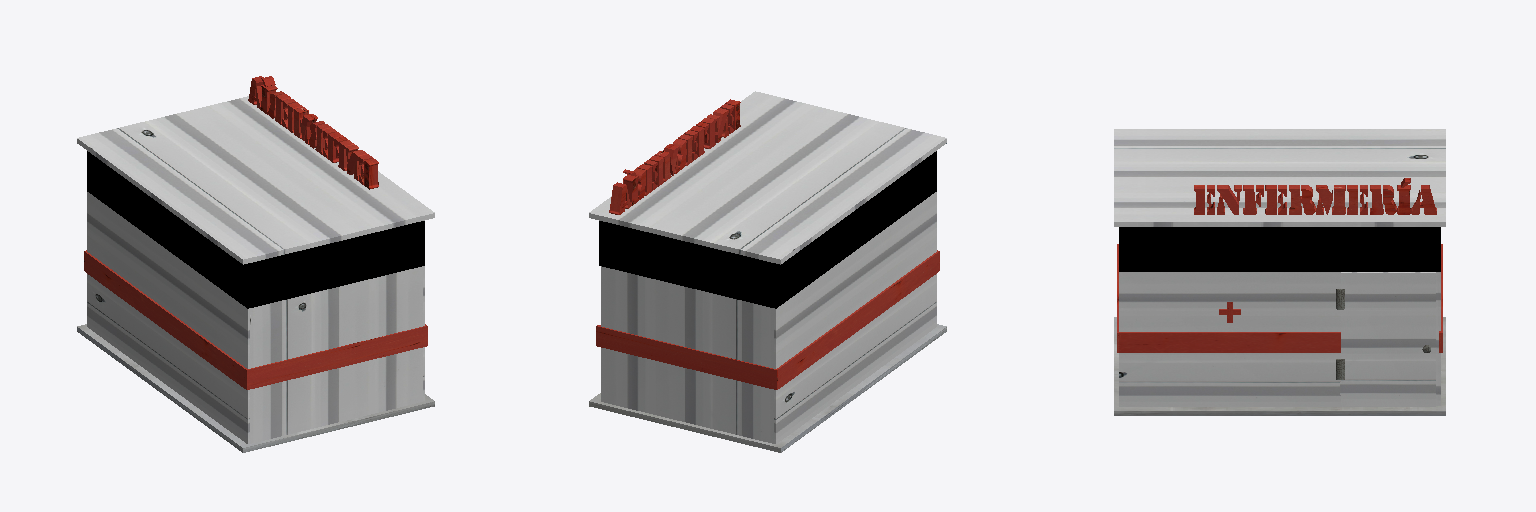
The picture shows the model from 3 angles: view 1: azimuth 30°, elevation 25°; view 2: azimuth 150°, elevation 25°; view 3: azimuth 270°, elevation 25°; orthographic projection.
Visible parts, largest first — view 1: pCube21, pCube10, pCube8, pCube14, pCube13, typeMesh1, pCube18, pCube20, pCube1; view 2: pCube21, pCube11, pCube8, pCube15, pCube13, typeMesh1, pCube19, pCube20, pCube1; view 3: pCube21, pCube9, pCube12, pCube16, typeMesh1, pCube17, pCube1, pCube11.
Boxes of the visible parts, box(x1,y1,x2,y2) form: pCube21: box(77, 96, 434, 264); pCube10: box(250, 266, 422, 443); pCube8: box(87, 192, 249, 443); pCube14: box(250, 221, 422, 307); pCube13: box(87, 151, 249, 308); typeMesh1: box(248, 76, 378, 189); pCube18: box(245, 325, 427, 389); pCube20: box(85, 251, 245, 388); pCube1: box(77, 324, 434, 452); pCube21: box(589, 91, 946, 264); pCube11: box(601, 266, 773, 443); pCube8: box(774, 192, 936, 443); pCube15: box(601, 221, 773, 307); pCube13: box(774, 151, 936, 308); typeMesh1: box(609, 99, 740, 214); pCube19: box(596, 325, 778, 389); pCube20: box(778, 252, 938, 388); pCube1: box(589, 324, 946, 452); pCube21: box(1114, 129, 1445, 226); pCube9: box(1119, 272, 1340, 406); pCube12: box(1119, 227, 1440, 271); pCube16: box(1340, 272, 1435, 406); typeMesh1: box(1194, 178, 1436, 214); pCube17: box(1119, 332, 1340, 352); pCube1: box(1114, 317, 1445, 415); pCube11: box(1436, 272, 1440, 405).
Bounding box in the file's own units: 20 × 22.47 × 30.
6 materials, 5 textured.